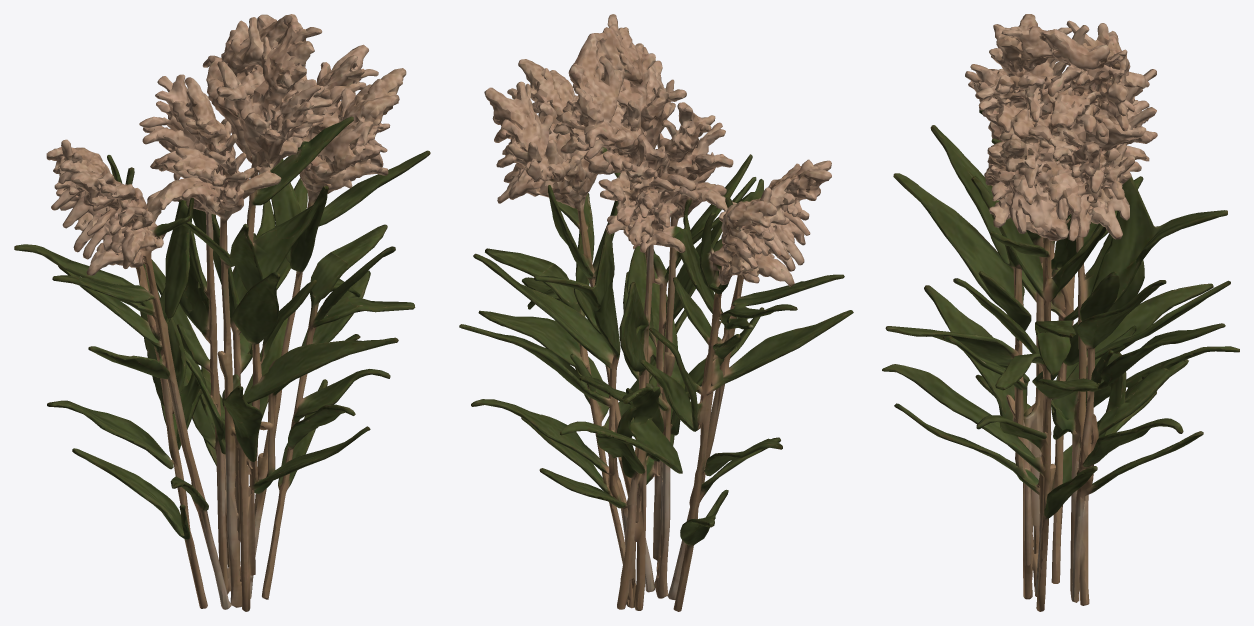
File: common-reed-cluster-v21-lod.glb
3 views of the same model, side by side, from view 1: azimuth 30°, elevation 25°; view 2: azimuth 150°, elevation 25°; view 3: azimuth 270°, elevation 25° (orthographic). The views are drawn at different scales.
Parts seen in each view (by area): view 1: geometry_0; view 2: geometry_0; view 3: geometry_0.
Part boxes in pixels (x1,y1,x2,y2): geometry_0: [14, 14, 430, 611]; geometry_0: [459, 14, 853, 611]; geometry_0: [882, 14, 1239, 611].
Size of the model in its own units: 0.7809 by 1.2 by 0.6487.
1 material, 1 textured.
